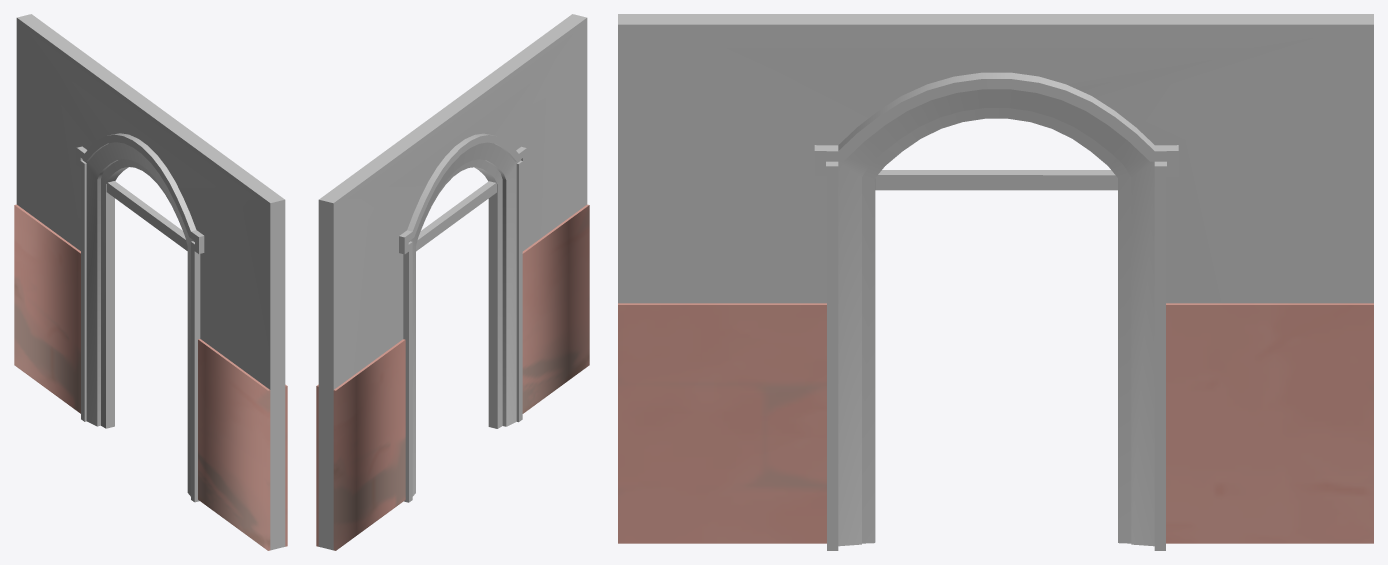
The model's file is wall_test_03.fbx.
3 renders of one model, left to right at view 1: azimuth 30°, elevation 25°; view 2: azimuth 150°, elevation 25°; view 3: azimuth 270°, elevation 25°, orthographic. The views are drawn at different scales.
Visible parts, largest first — view 1: wall_03_B, wall_03_L, wall_03_door, wall_03_R; view 2: wall_03_B, wall_03_L, wall_03_door, wall_03_R; view 3: wall_03_B, wall_03_R, wall_03_door.
Part boxes in pixels (left/top/right/bottom): wall_03_B: left=16, top=14, right=285, bottom=550; wall_03_L: left=14, top=204, right=270, bottom=550; wall_03_door: left=76, top=133, right=204, bottom=502; wall_03_R: left=285, top=384, right=287, bottom=546; wall_03_B: left=318, top=14, right=587, bottom=550; wall_03_L: left=333, top=204, right=589, bottom=550; wall_03_door: left=399, top=133, right=526, bottom=502; wall_03_R: left=316, top=384, right=318, bottom=546; wall_03_B: left=618, top=14, right=1373, bottom=303; wall_03_R: left=618, top=303, right=1373, bottom=543; wall_03_door: left=814, top=72, right=1178, bottom=550.
Bounding box in the file's own units: 34.66 × 392 × 516.
